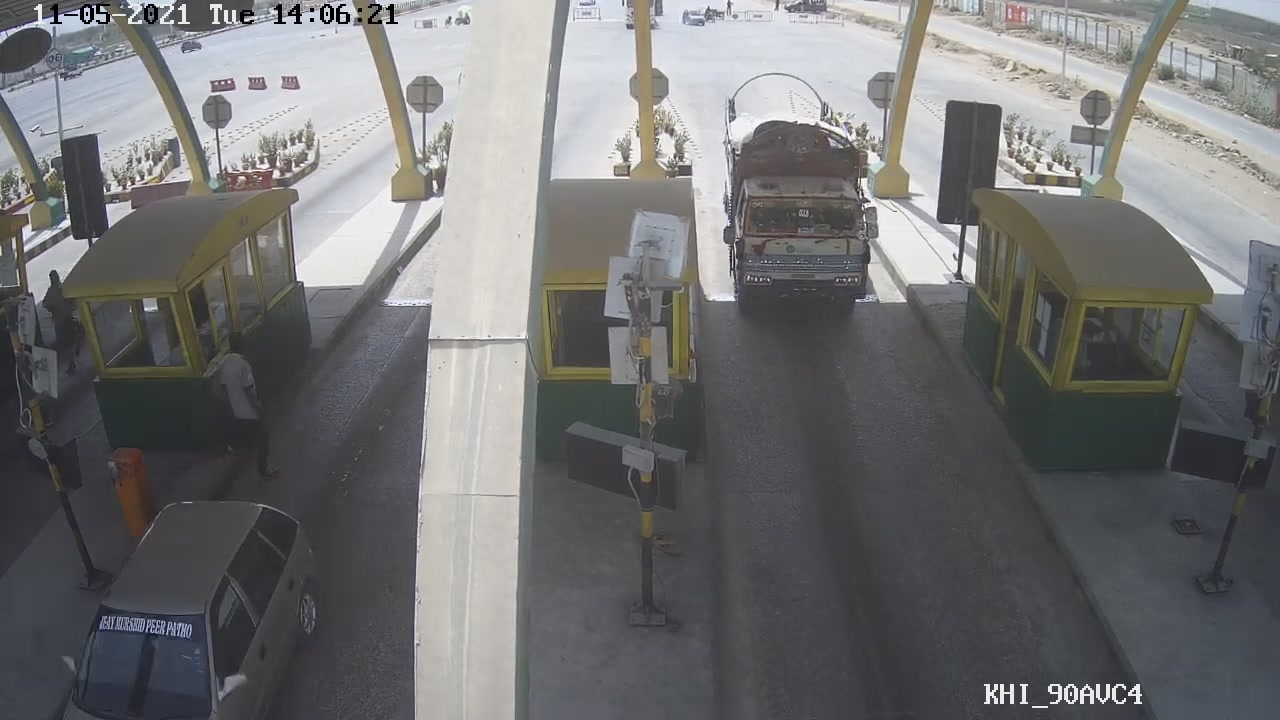F5: (717, 75, 901, 329)
